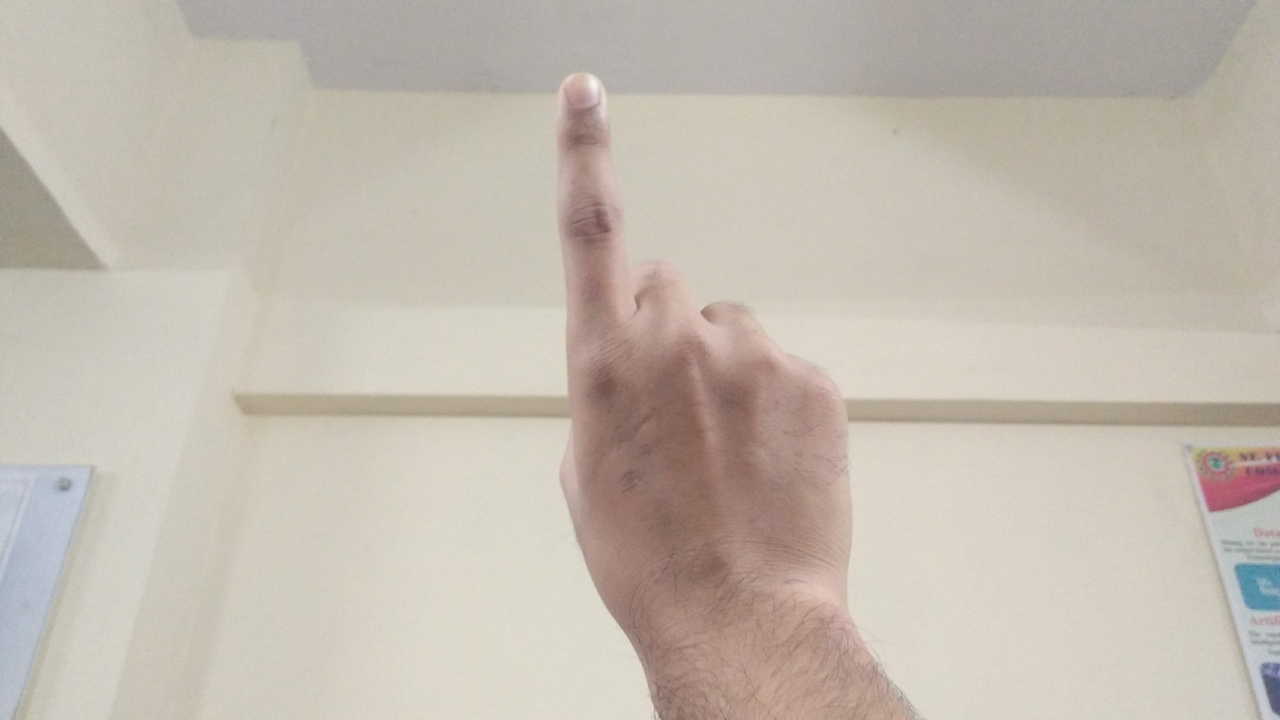fingertip: (550, 66, 614, 124)
